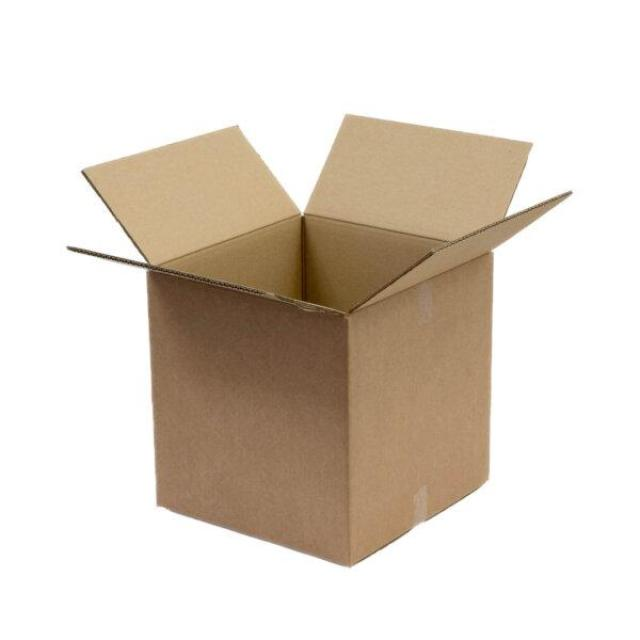cardboard: (68, 112, 569, 570)
